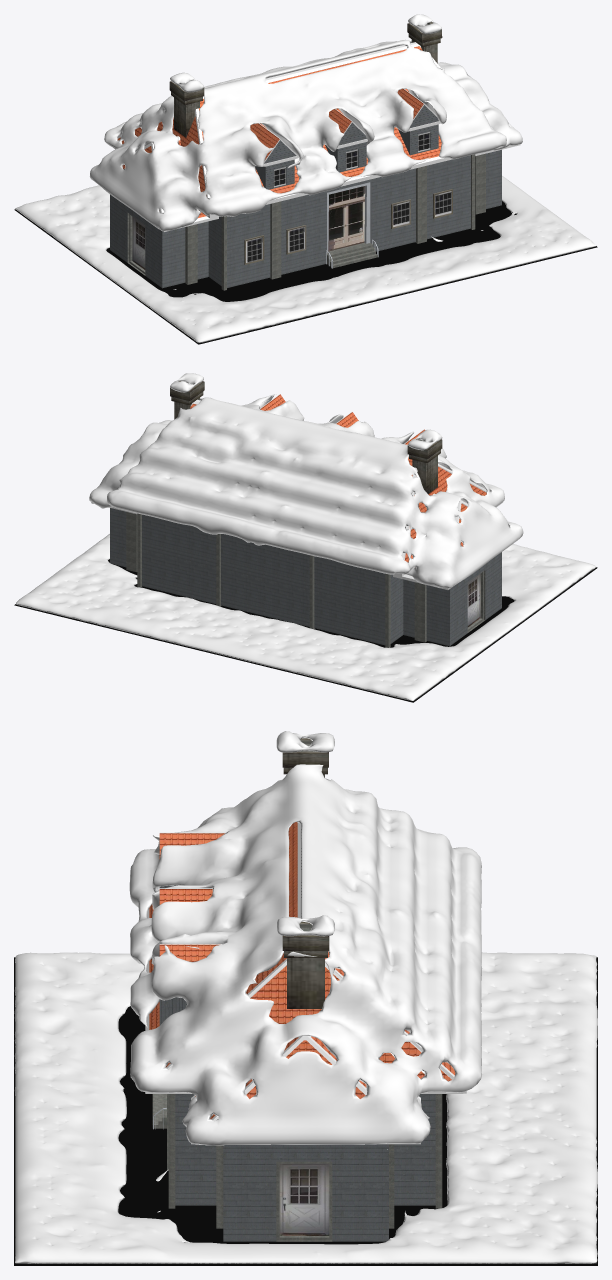
The model's file is House_S10P4.glb.
The picture shows the model from 3 angles, top to bottom: view 1: azimuth 30°, elevation 25°; view 2: azimuth 150°, elevation 25°; view 3: azimuth 270°, elevation 25°; orthographic projection. The views are drawn at different scales.
Visible parts, largest first — view 1: SnowMesh, House1, Plane; view 2: SnowMesh, House1, Plane; view 3: SnowMesh, House1, Plane.
Boxes of the visible parts, x1=… form: SnowMesh: x1=15, y1=14, x2=596, y2=342; House1: x1=91, y1=22, x2=520, y2=290; Plane: x1=14, y1=201, x2=597, y2=344; SnowMesh: x1=16, y1=373, x2=595, y2=700; House1: x1=91, y1=381, x2=502, y2=647; Plane: x1=14, y1=559, x2=597, y2=702; SnowMesh: x1=14, y1=731, x2=597, y2=1263; House1: x1=145, y1=738, x2=466, y2=1241; Plane: x1=14, y1=957, x2=597, y2=1265.
Bounding box in the file's own units: 10 × 4.34 × 8.
Materials: 12 (9 with a texture image).
